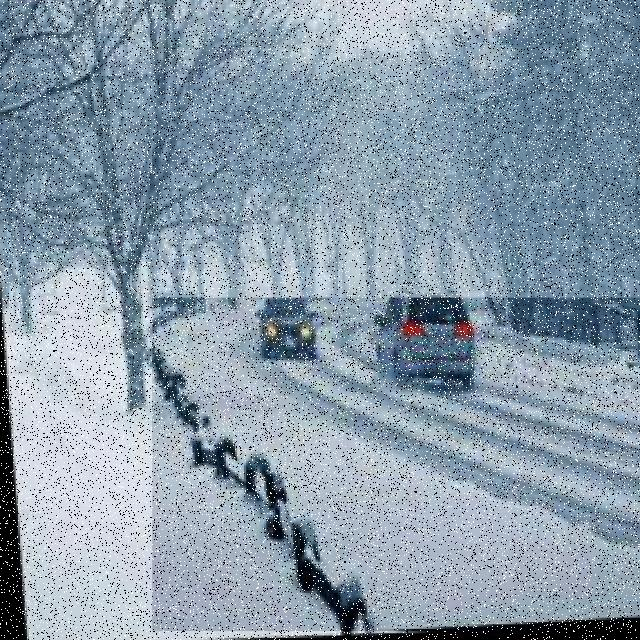ice-road: (154, 299, 640, 631), (5, 269, 340, 640)
